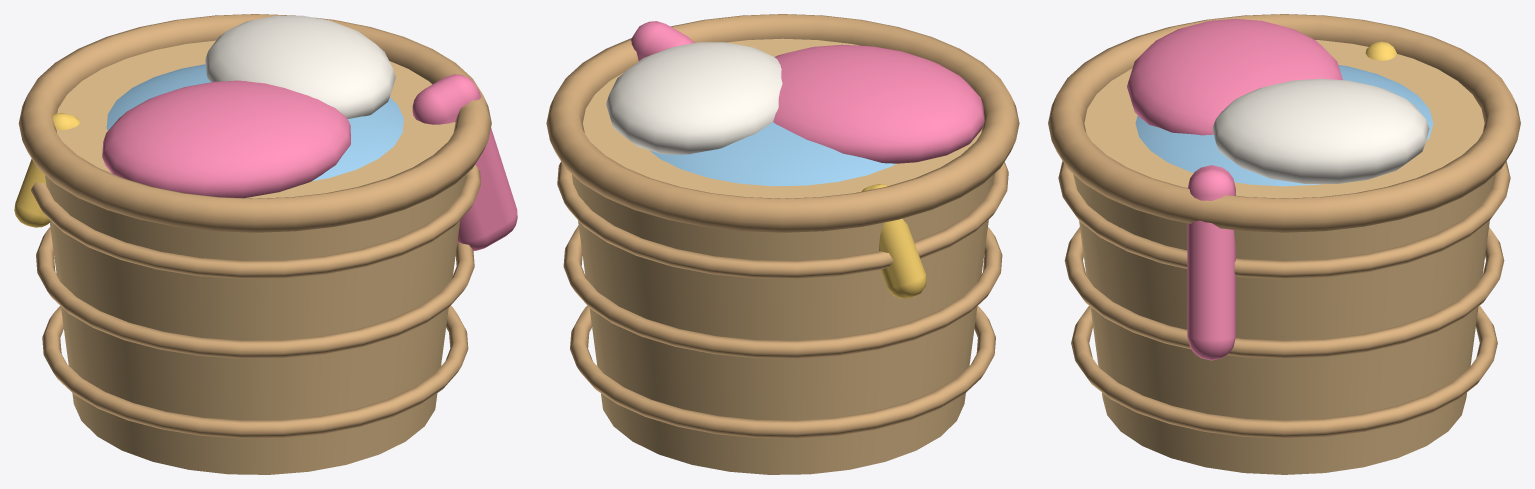
Rendered from laundry.glb.
3 renders of one model, left to right at view 1: azimuth 30°, elevation 25°; view 2: azimuth 150°, elevation 25°; view 3: azimuth 270°, elevation 25°, orthographic.
Size of the model in its own units: 0.814 by 0.6075 by 0.78.
